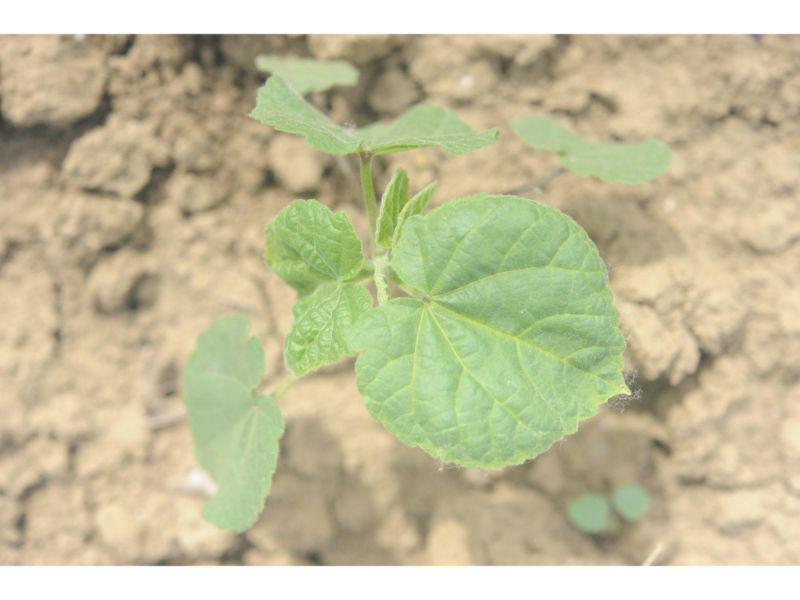velvet: (183, 52, 674, 529)
